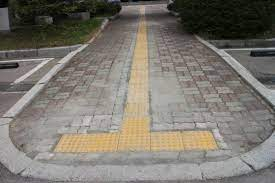guide_blocks: (56, 130, 216, 149), (120, 60, 150, 130), (132, 26, 148, 60), (136, 5, 146, 27)
